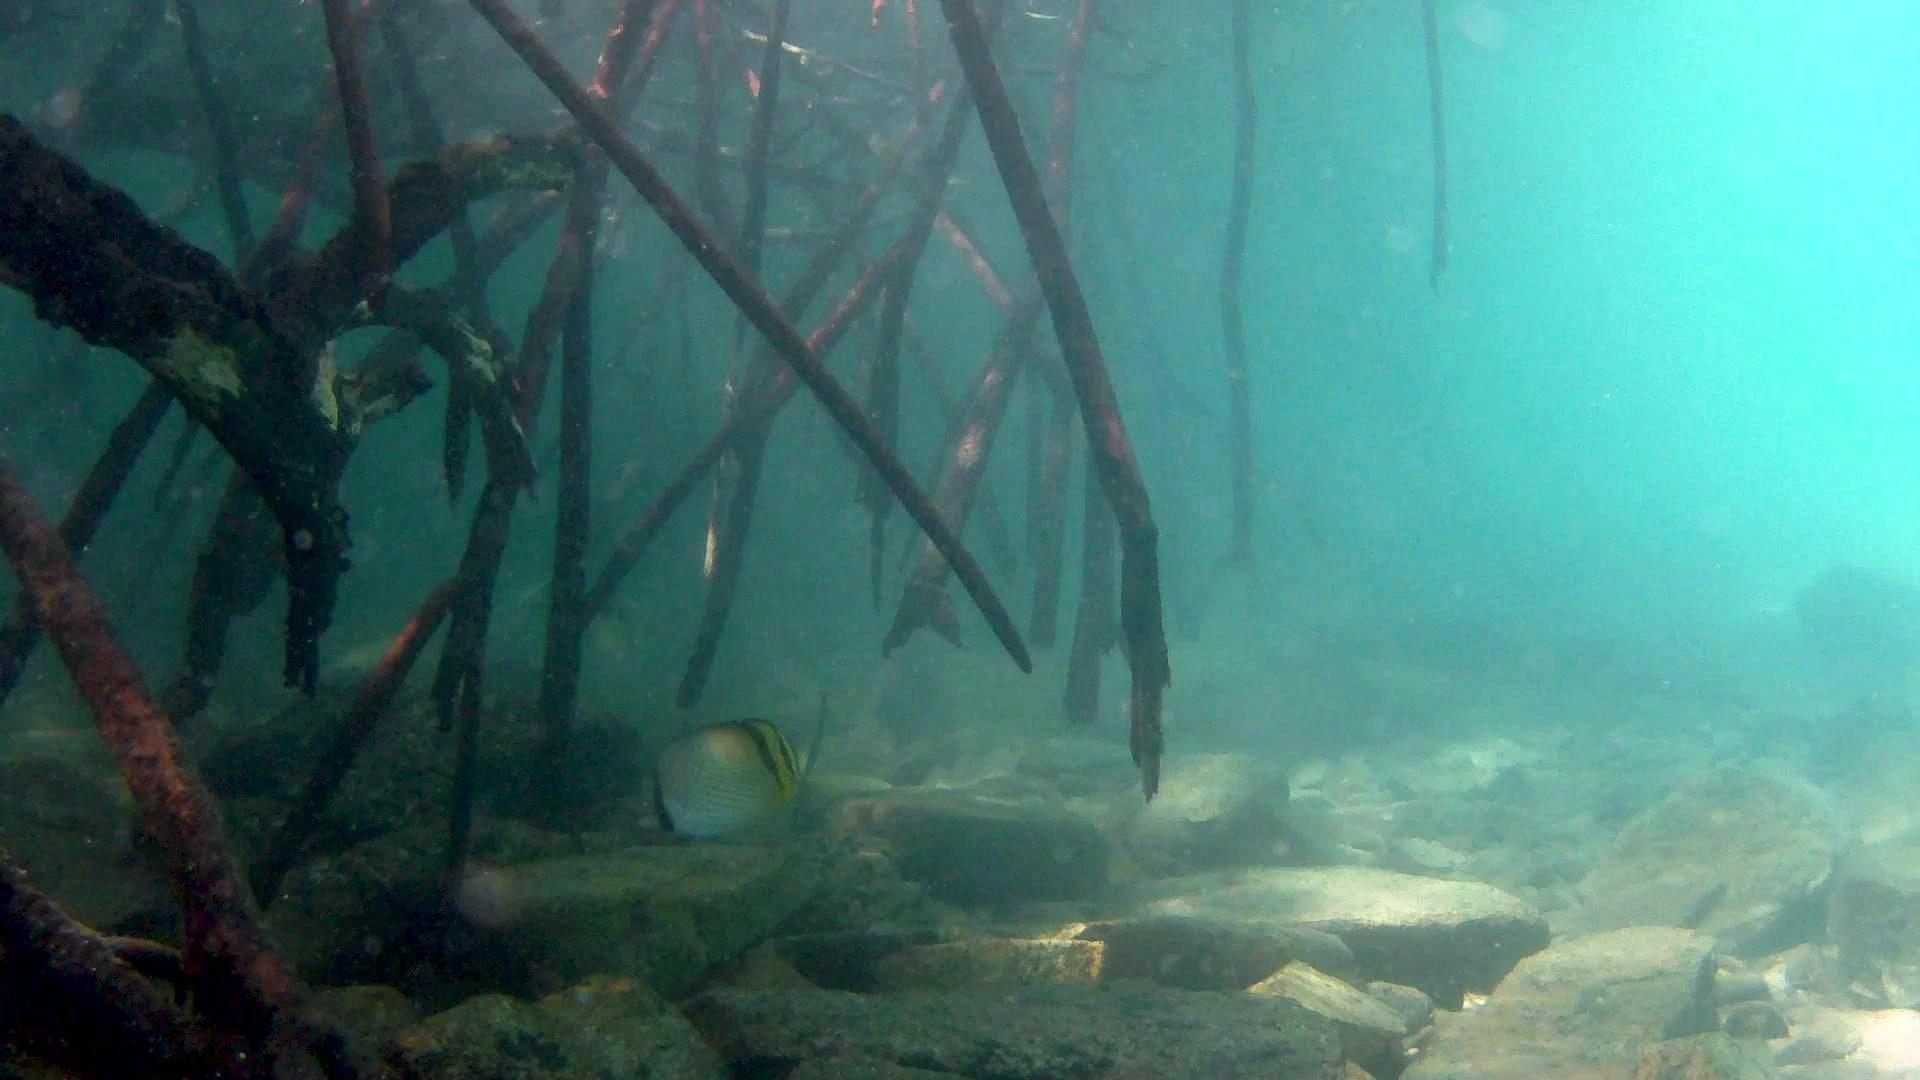chaetodon vagabundus: (633, 712, 806, 844)
